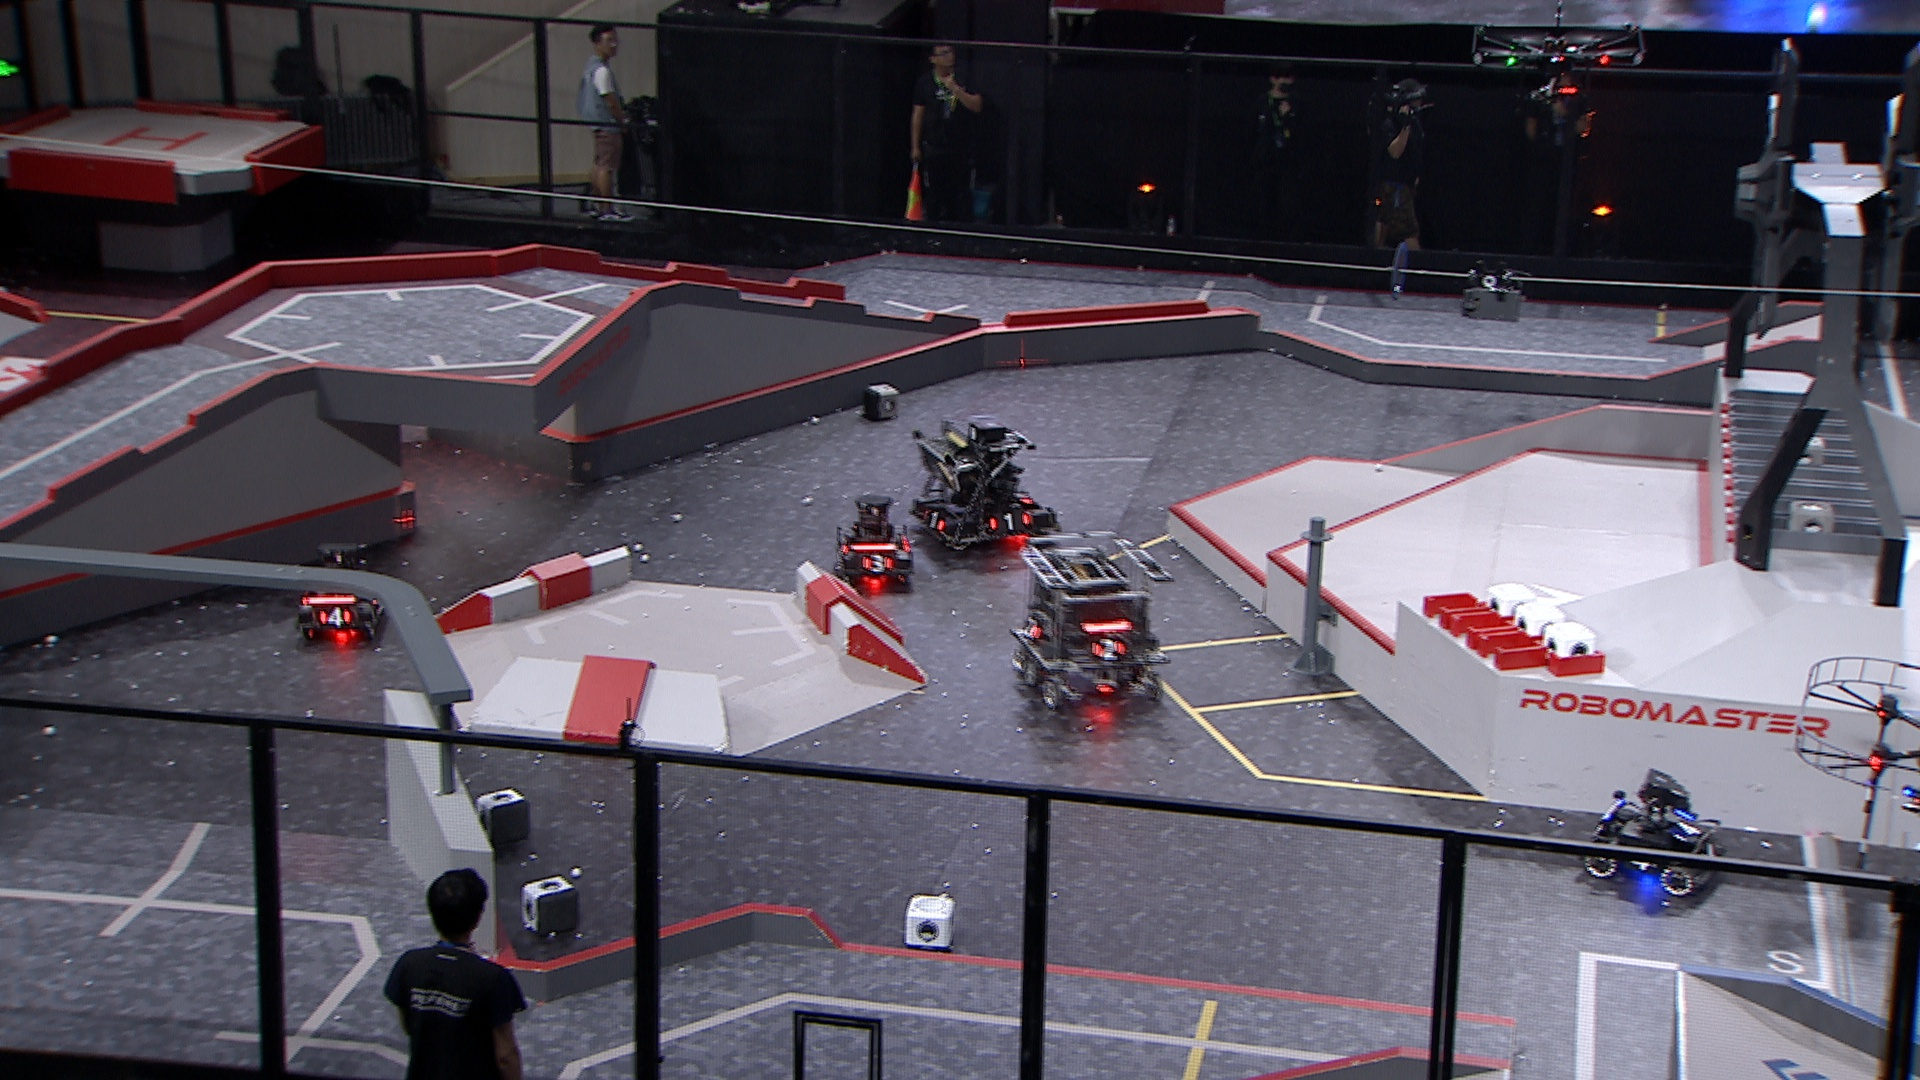armor: (984, 513, 1031, 533), (319, 605, 353, 629), (1091, 637, 1125, 661), (915, 509, 948, 533), (860, 555, 893, 574), (1021, 615, 1044, 640), (1627, 856, 1658, 874), (1673, 820, 1702, 839), (1702, 840, 1720, 860), (1013, 491, 1035, 504)
car: (1006, 531, 1179, 712), (903, 410, 1067, 556), (1584, 766, 1727, 897), (291, 541, 396, 642), (831, 493, 916, 585)
